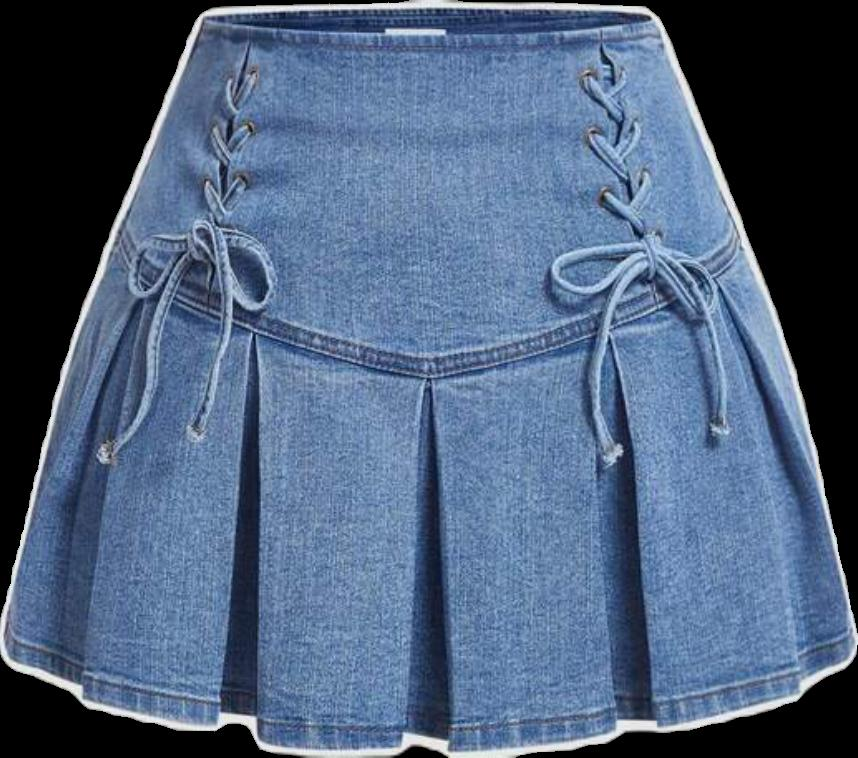Hemline: (0, 638, 855, 757)
Waistline: (111, 230, 743, 385), (199, 13, 656, 41)
